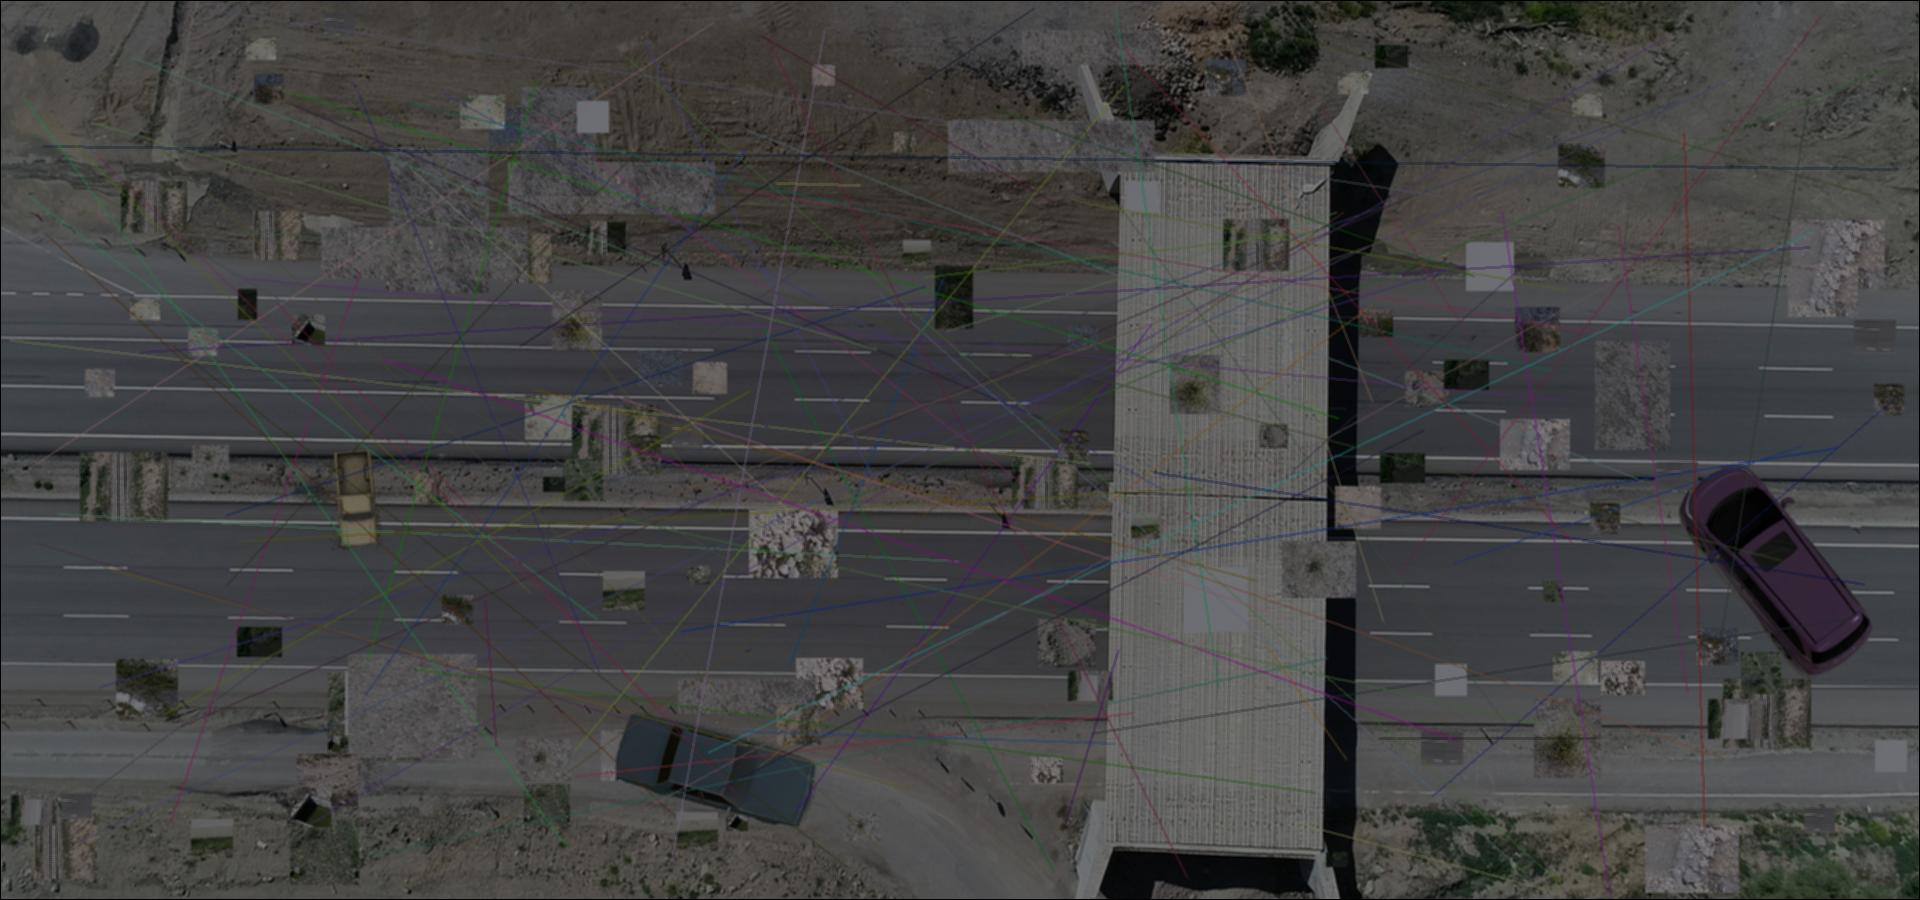arac: (1679, 462, 1873, 678), (616, 711, 819, 827), (331, 448, 382, 550)
